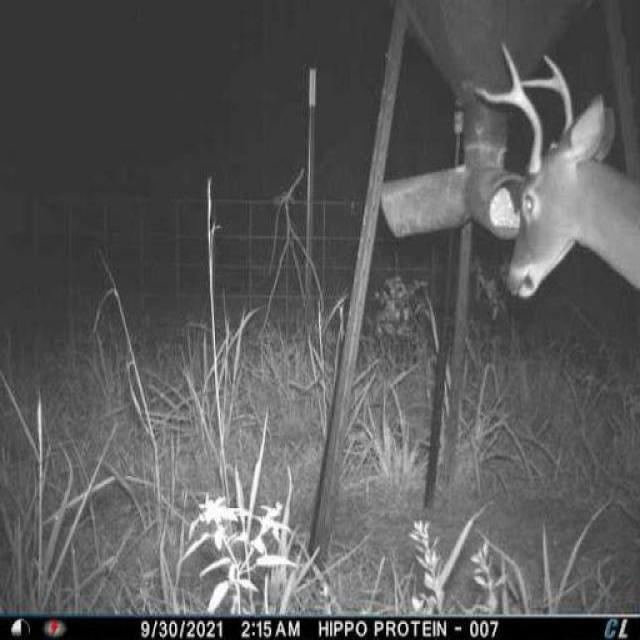deer: (474, 35, 640, 317)
